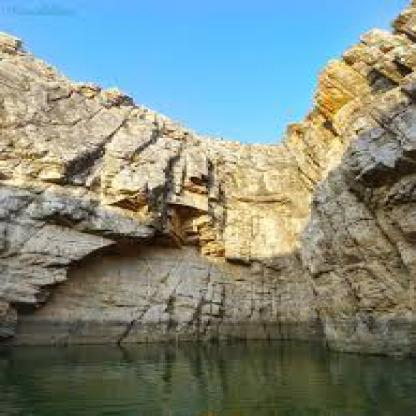Metamorphic_Marble: (332, 69, 414, 345), (0, 88, 116, 230), (223, 166, 311, 312)
